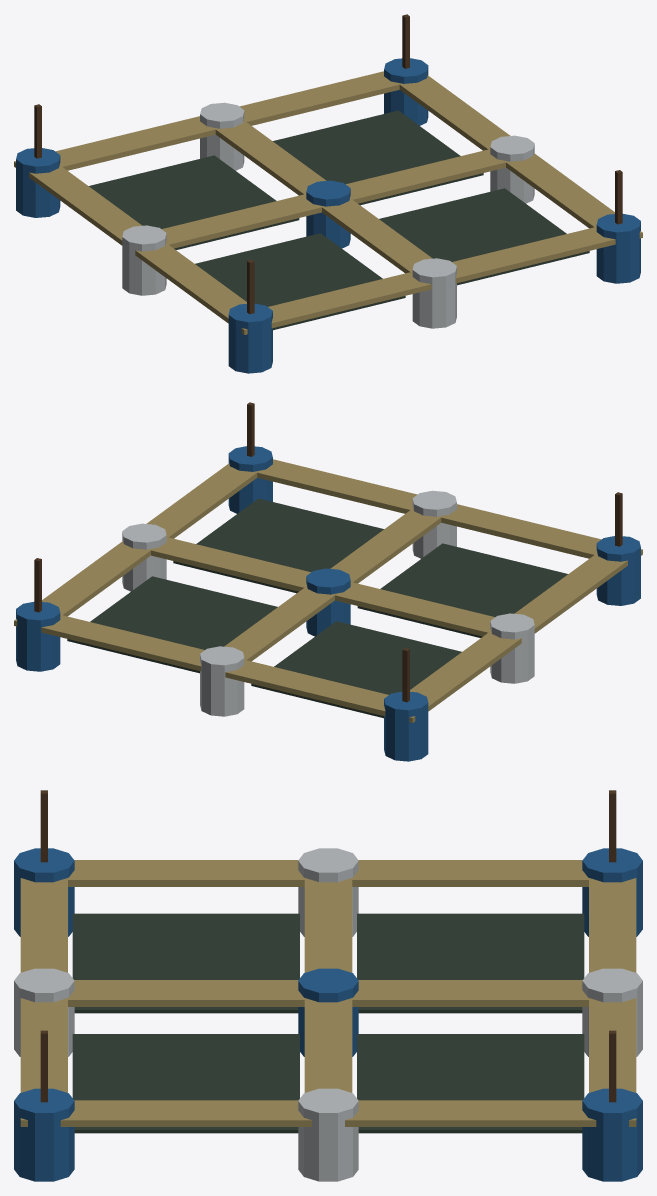
Rendered from sangkar.fbx.
The picture shows the model from 3 angles, top to bottom: view 1: azimuth 30°, elevation 25°; view 2: azimuth 150°, elevation 25°; view 3: azimuth 270°, elevation 25°; orthographic projection. The views are drawn at different scales.
Parts seen in each view (by area): view 1: sangkar; view 2: sangkar; view 3: sangkar.
Boxes of the visible parts, left/top/right/bottom form: sangkar: left=14, top=14, right=642, bottom=373; sangkar: left=14, top=402, right=642, bottom=761; sangkar: left=14, top=790, right=642, bottom=1181.
Bounding box in the file's own units: 6.61 × 1.6 × 6.64.
